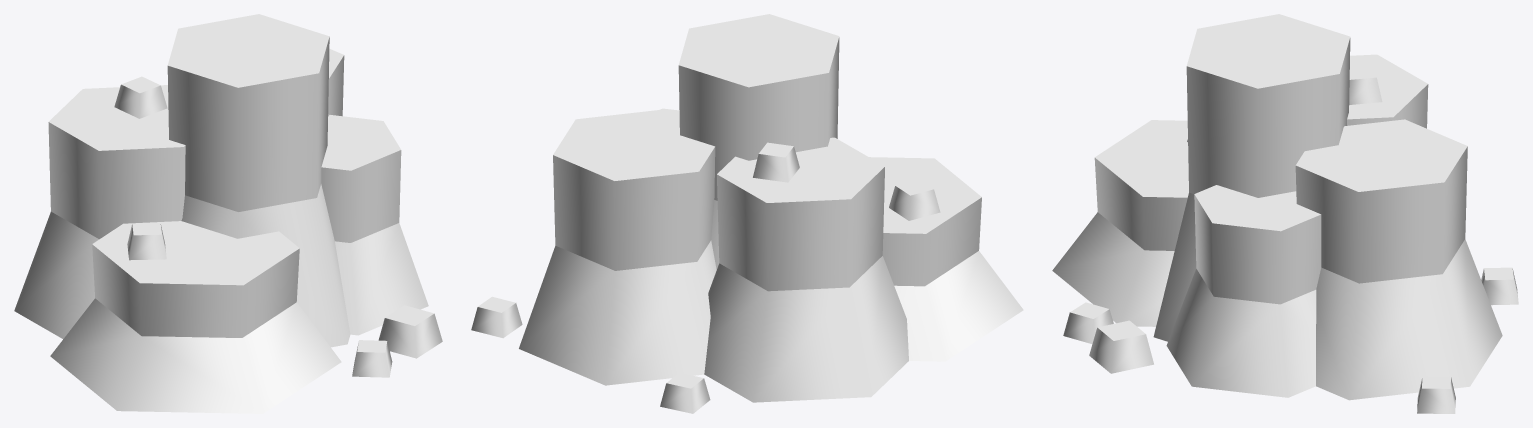
Rendered from rocks-c.glb.
The picture shows the model from 3 angles, left to right: view 1: azimuth 30°, elevation 25°; view 2: azimuth 150°, elevation 25°; view 3: azimuth 270°, elevation 25°; orthographic projection.
Visible parts, largest first — view 1: rocks-c; view 2: rocks-c; view 3: rocks-c.
Part boxes in pixels (left/top/right/bottom): rocks-c: left=14, top=14, right=442, bottom=413; rocks-c: left=471, top=14, right=1023, bottom=413; rocks-c: left=1052, top=14, right=1518, bottom=413.
Size of the model in its own units: 3.64 by 2.3 by 3.67.
Materials: 1 (1 with a texture image).
